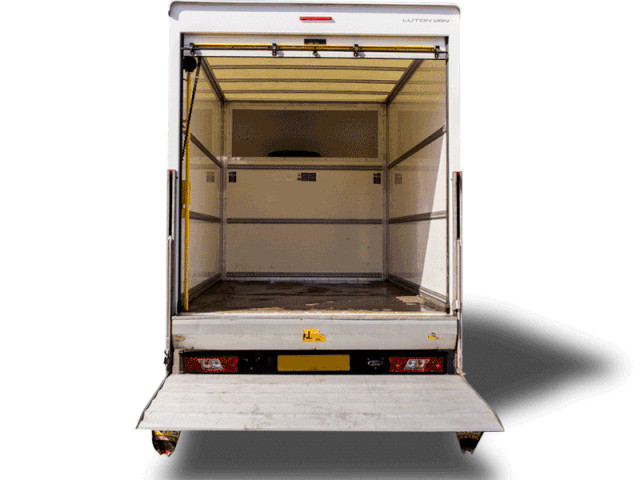van: (132, 0, 507, 476)
